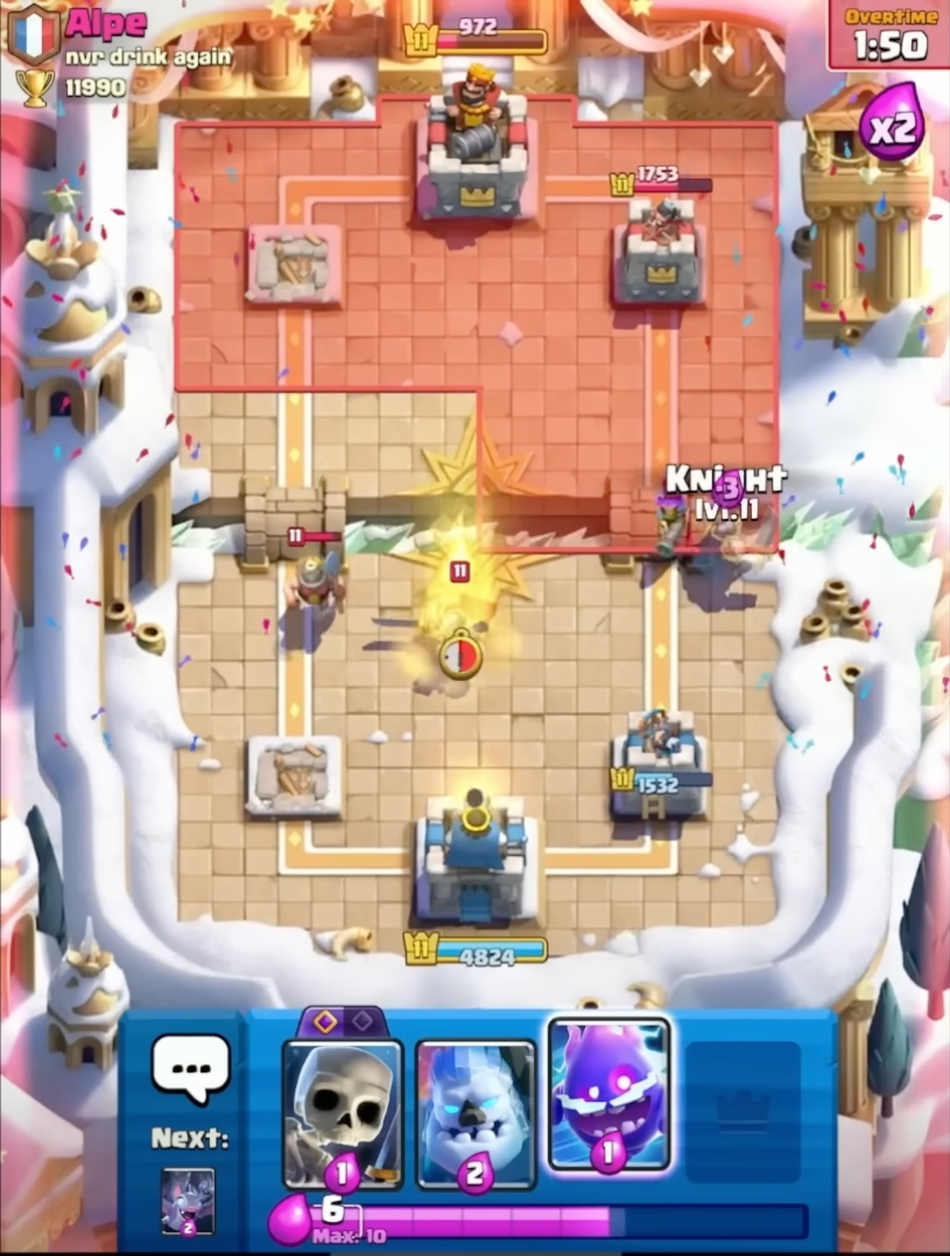hero-knight: (421, 557, 504, 692)
miner: (270, 520, 359, 624)
musketeer: (647, 470, 695, 566)
